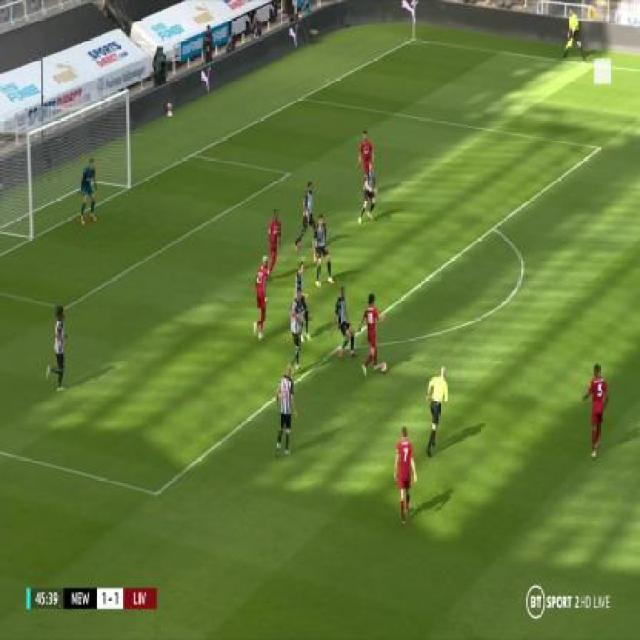ball: (380, 360, 388, 373)
player: (583, 362, 611, 462), (273, 362, 299, 464), (394, 426, 419, 525), (425, 363, 450, 457), (359, 292, 385, 378), (47, 300, 70, 394), (356, 130, 378, 224), (310, 210, 335, 289), (252, 254, 274, 342), (332, 285, 357, 361), (292, 179, 317, 250), (77, 157, 99, 226), (292, 262, 311, 339), (286, 289, 303, 374), (266, 209, 283, 283), (562, 7, 584, 60)
